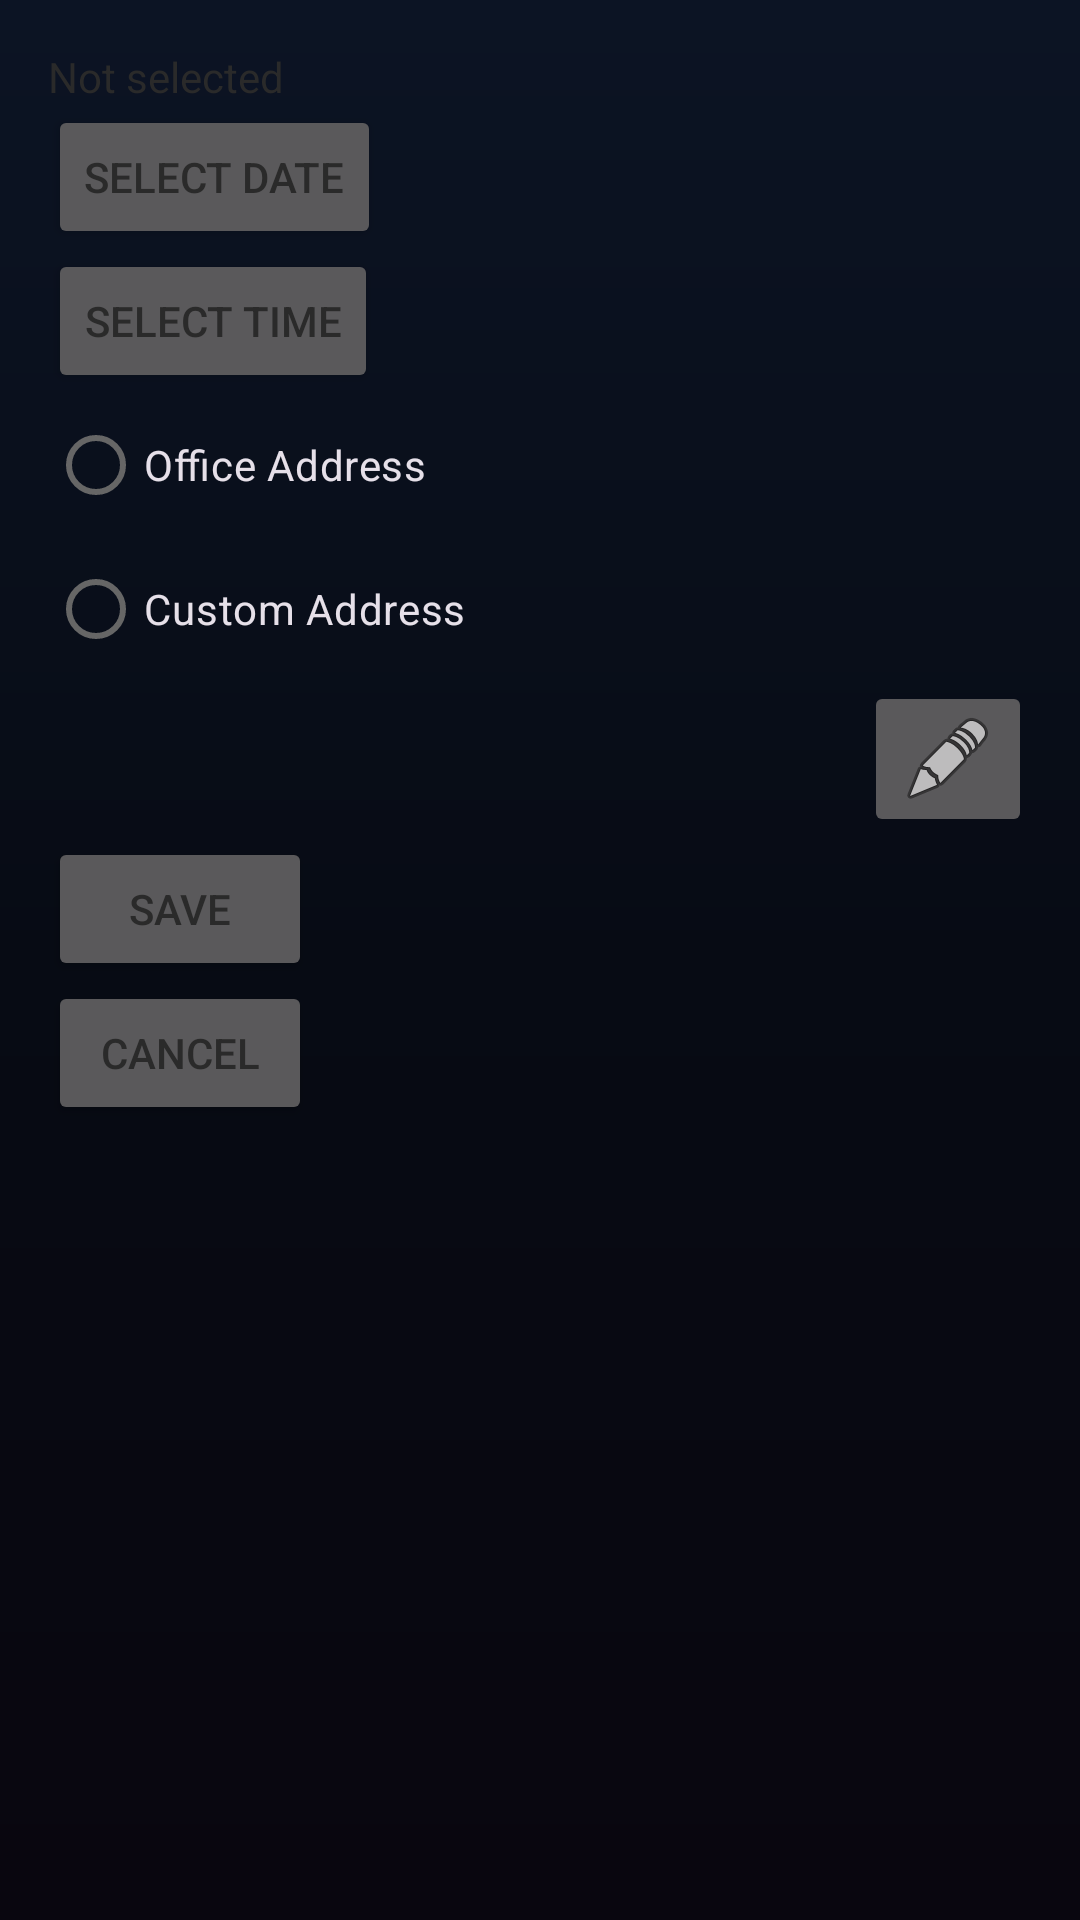

Named icons in this screenshot (1080x1920) and their centers, (x,y):
edit: (948,759)
